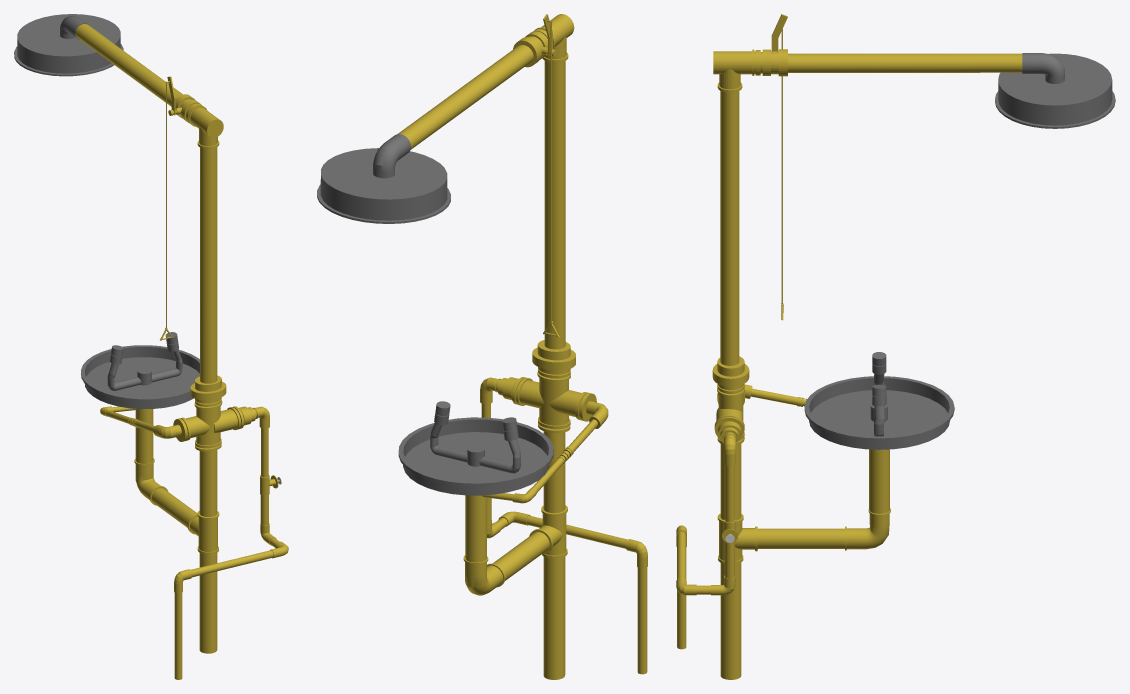
Rendered from ducha_de_emer.fbx.
3 views of the same model, side by side, from view 1: azimuth 30°, elevation 25°; view 2: azimuth 150°, elevation 25°; view 3: azimuth 270°, elevation 25° (orthographic). The views are drawn at different scales.
Parts seen in each view (by area): view 1: Cilindro.012, Cilindro.001, Cilindro.003; view 2: Cilindro.012, Cilindro.001, Cilindro.003; view 3: Cilindro.012, Cilindro.001, Cilindro.003.
Boxes of the visible parts, x1=… form: Cilindro.012: x1=75, y1=24, x2=288, y2=679; Cilindro.001: x1=81, y1=332, x2=199, y2=409; Cilindro.003: x1=14, y1=14, x2=123, y2=76; Cilindro.012: x1=397, y1=14, x2=647, y2=679; Cilindro.001: x1=398, y1=401, x2=553, y2=495; Cilindro.003: x1=317, y1=134, x2=450, y2=223; Cilindro.012: x1=676, y1=14, x2=1022, y2=679; Cilindro.001: x1=804, y1=352, x2=954, y2=449; Cilindro.003: x1=995, y1=53, x2=1115, y2=128.
Bounding box in the file's own units: 2373 × 10110 × 6165.
